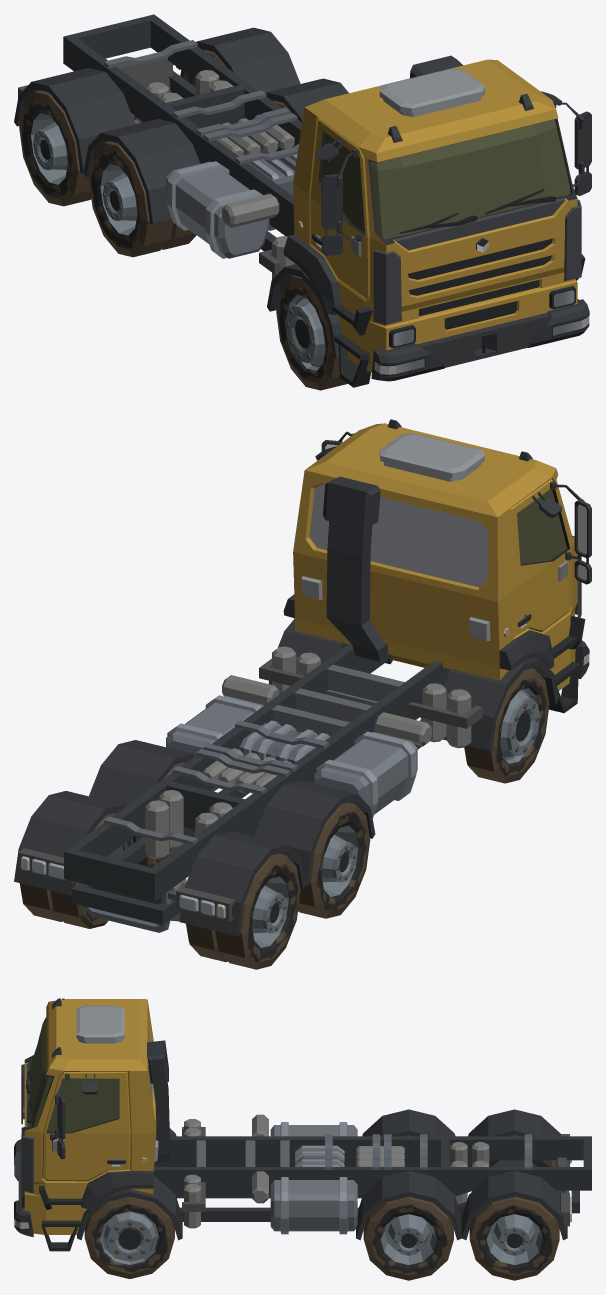
File: SM_Veh_Truck_01.fbx
3 renders of one model, top to bottom at view 1: azimuth 30°, elevation 25°; view 2: azimuth 150°, elevation 25°; view 3: azimuth 270°, elevation 25°, orthographic. The views are drawn at different scales.
Visible parts, largest first — view 1: SM_Veh_Truck_01, SM_Veh_Truck_01_Glass, SM_Veh_Truck_01_Wheel_mr, SM_Veh_Truck_01_Wheel_rr, SM_Veh_Truck_01_Wheel_fr; view 2: SM_Veh_Truck_01, SM_Veh_Truck_01_Wheel_rr, SM_Veh_Truck_01_Wheel_mr, SM_Veh_Truck_01_Wheel_fr, SM_Veh_Truck_01_Glass, SM_Veh_Truck_01_Wheel_rl; view 3: SM_Veh_Truck_01, SM_Veh_Truck_01_Wheel_ml, SM_Veh_Truck_01_Wheel_rl, SM_Veh_Truck_01_Wheel_fl, SM_Veh_Truck_01_Glass, SM_Veh_Truck_01_Wheel_rr.
Boxes of the visible parts, left/top/right/bottom form: SM_Veh_Truck_01: left=14, top=14, right=591, bottom=387; SM_Veh_Truck_01_Glass: left=322, top=119, right=570, bottom=239; SM_Veh_Truck_01_Wheel_mr: left=88, top=141, right=196, bottom=257; SM_Veh_Truck_01_Wheel_rr: left=19, top=90, right=91, bottom=206; SM_Veh_Truck_01_Wheel_fr: left=276, top=275, right=358, bottom=390; SM_Veh_Truck_01: left=14, top=419, right=591, bottom=936; SM_Veh_Truck_01_Wheel_rr: left=186, top=853, right=300, bottom=969; SM_Veh_Truck_01_Wheel_mr: left=298, top=802, right=370, bottom=918; SM_Veh_Truck_01_Wheel_fr: left=464, top=668, right=549, bottom=783; SM_Veh_Truck_01_Glass: left=517, top=489, right=566, bottom=564; SM_Veh_Truck_01_Wheel_rl: left=19, top=813, right=133, bottom=928; SM_Veh_Truck_01: left=14, top=998, right=591, bottom=1251; SM_Veh_Truck_01_Wheel_ml: left=363, top=1196, right=453, bottom=1280; SM_Veh_Truck_01_Wheel_rl: left=469, top=1196, right=559, bottom=1280; SM_Veh_Truck_01_Wheel_fl: left=84, top=1196, right=174, bottom=1278; SM_Veh_Truck_01_Glass: left=31, top=1017, right=119, bottom=1131; SM_Veh_Truck_01_Wheel_rr: left=470, top=1135, right=556, bottom=1166.
Size of the model in its own units: 351 by 358 by 857.
